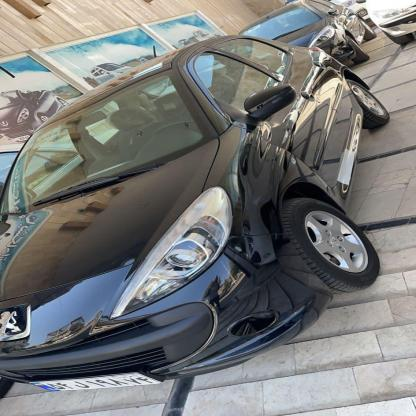Car: (0, 38, 416, 378), (202, 0, 416, 72)
